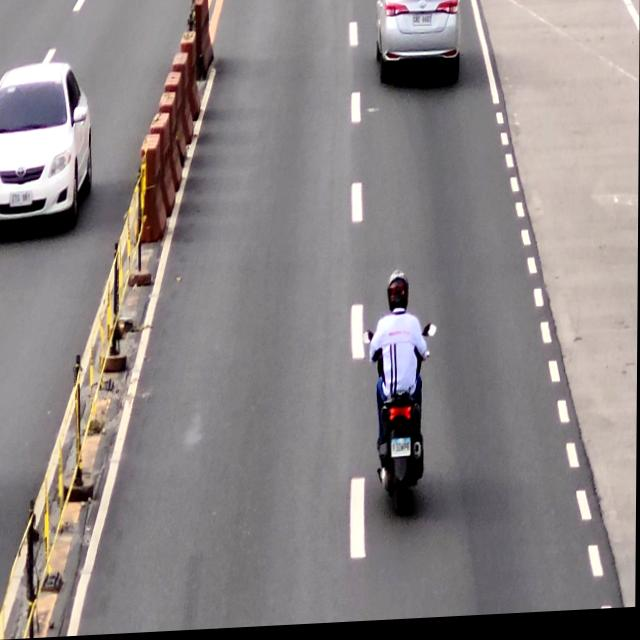Car: (369, 0, 462, 89)
License-Plate: (390, 441, 412, 464), (412, 17, 433, 32)
Motorcycle: (360, 330, 437, 519)
